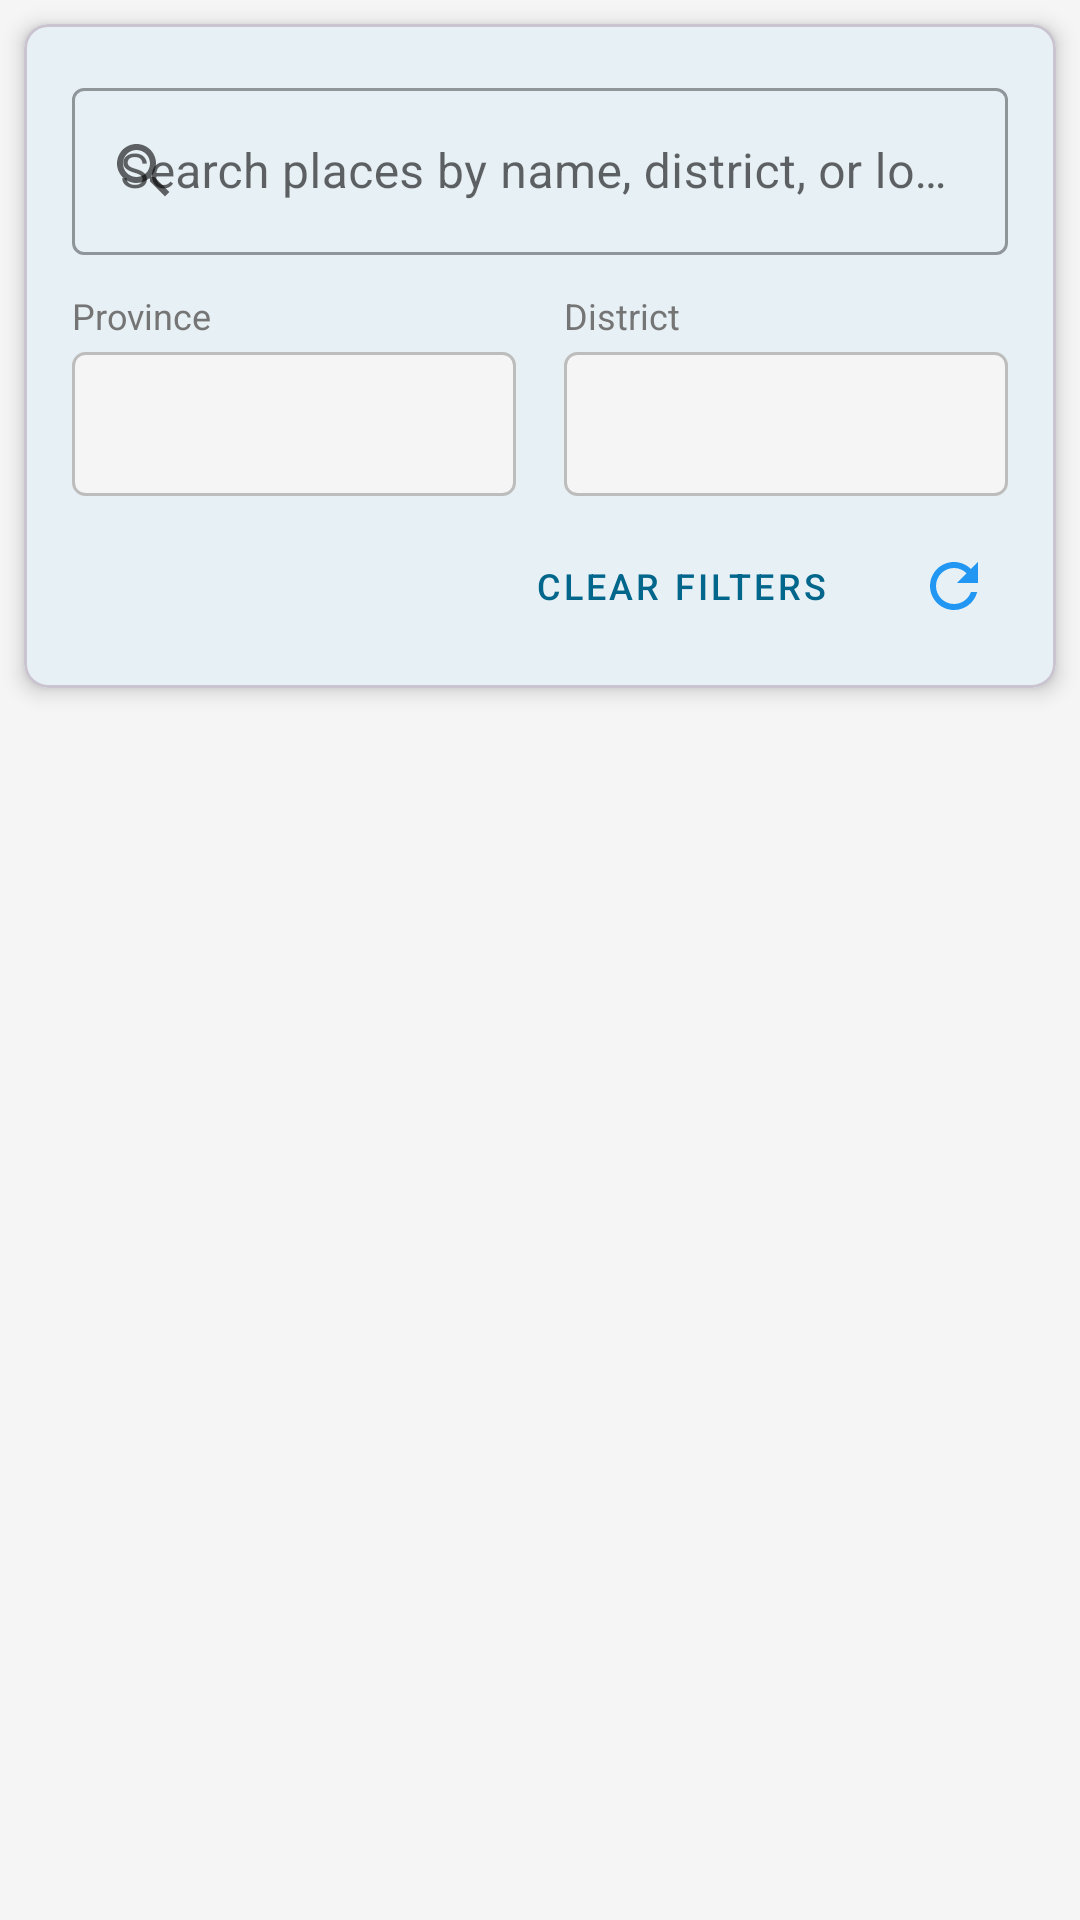

Screen size 1080 x 1920. Icon name, then its center in pixels as point (x, y):
Refresh places: point (954, 586)
